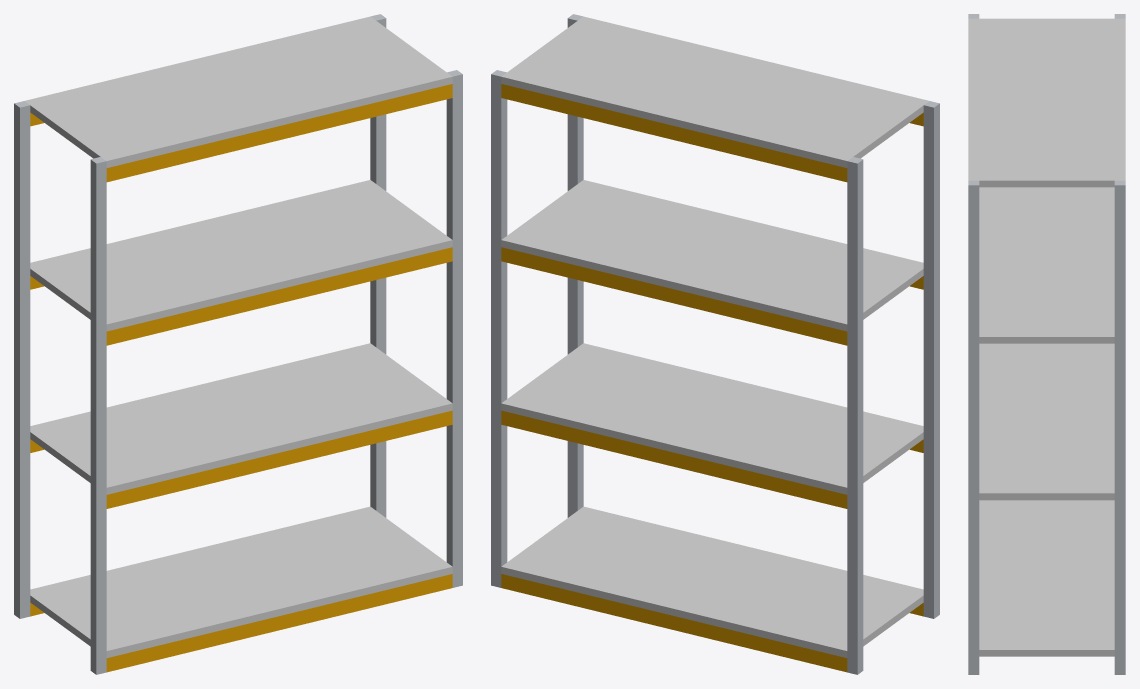
The model's file is Warehouse Shelf.fbx.
The picture shows the model from 3 angles, left to right: view 1: azimuth 30°, elevation 25°; view 2: azimuth 150°, elevation 25°; view 3: azimuth 270°, elevation 25°; orthographic projection. The views are drawn at different scales.
Visible parts, largest first — view 1: Shelf_copy_003, Shelf_copy_002, Shelf_copy_001, group_0, group_3, group_1, group_5, FGirder_copy_001, FGirder_copy_003, FGirder_copy_002, group_2, group_6; view 2: Shelf_copy_003, Shelf_copy_002, Shelf_copy_001, group_0, group_1, group_3, group_6, RGirder_copy_001, RGirder_copy_003, RGirder_copy_002, group_4, group_5; view 3: Shelf_copy_003, Shelf_copy_001, Shelf_copy_002, group_0, group_6, group_5.
Boxes of the visible parts, bbox=[...] form: Shelf_copy_003: bbox=[25, 16, 452, 167]; Shelf_copy_002: bbox=[30, 180, 452, 331]; Shelf_copy_001: bbox=[30, 343, 452, 494]; group_0: bbox=[30, 506, 452, 657]; group_3: bbox=[14, 101, 30, 618]; group_1: bbox=[90, 157, 106, 674]; group_5: bbox=[446, 70, 462, 587]; FGirder_copy_001: bbox=[106, 410, 452, 508]; FGirder_copy_003: bbox=[106, 84, 452, 182]; FGirder_copy_002: bbox=[106, 247, 452, 345]; group_2: bbox=[106, 574, 452, 672]; group_6: bbox=[370, 14, 386, 517]; Shelf_copy_003: bbox=[501, 16, 928, 167]; Shelf_copy_002: bbox=[501, 180, 923, 331]; Shelf_copy_001: bbox=[501, 343, 923, 494]; group_0: bbox=[501, 506, 923, 657]; group_1: bbox=[923, 101, 939, 618]; group_3: bbox=[847, 157, 863, 674]; group_6: bbox=[491, 70, 507, 587]; RGirder_copy_001: bbox=[501, 410, 847, 508]; RGirder_copy_003: bbox=[501, 84, 847, 182]; RGirder_copy_002: bbox=[501, 247, 847, 345]; group_4: bbox=[501, 574, 847, 672]; group_5: bbox=[567, 14, 583, 517]; Shelf_copy_003: bbox=[968, 18, 1125, 187]; Shelf_copy_001: bbox=[979, 343, 1114, 500]; Shelf_copy_002: bbox=[979, 187, 1114, 343]; group_0: bbox=[979, 500, 1114, 656]; group_6: bbox=[1114, 180, 1125, 674]; group_5: bbox=[968, 180, 979, 674].
Bounding box in the file's own units: 274 × 366 × 107.
